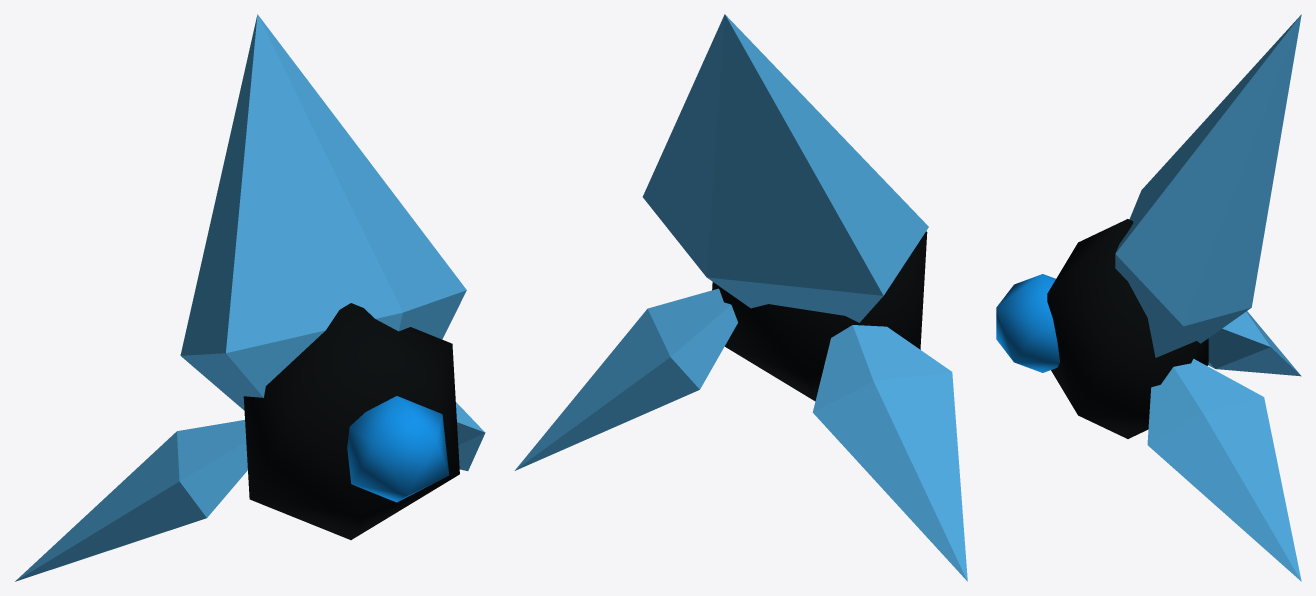
Rendered from SwarmEnemy.obj.
The picture shows the model from 3 angles, left to right: view 1: azimuth 30°, elevation 25°; view 2: azimuth 150°, elevation 25°; view 3: azimuth 270°, elevation 25°; orthographic projection. The views are drawn at different scales.
Visible parts, largest first — view 1: SwarmEnemy; view 2: SwarmEnemy; view 3: SwarmEnemy.
Boxes of the visible parts, x1=… form: SwarmEnemy: x1=15, y1=14, x2=485, y2=581; SwarmEnemy: x1=514, y1=14, x2=967, y2=581; SwarmEnemy: x1=996, y1=14, x2=1301, y2=581.
Bounding box in the file's own units: 2.25 × 2.41 × 1.42.
Materials: 3 (3 with a texture image).
